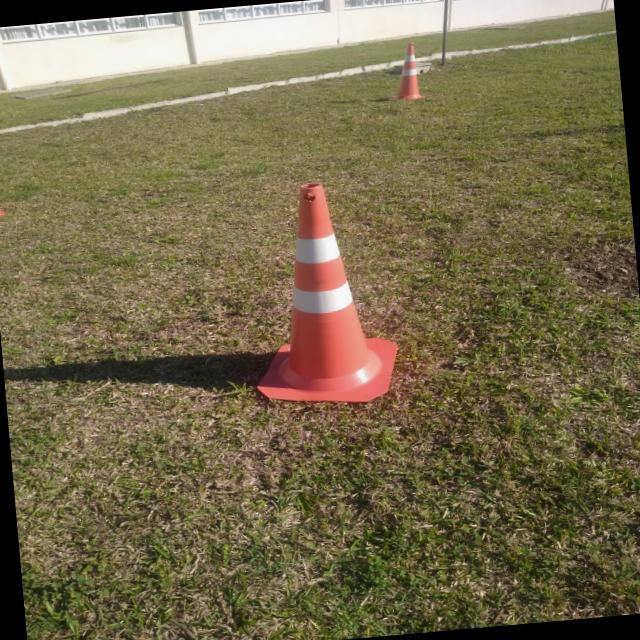cone: (234, 170, 410, 423), (376, 37, 442, 105)
